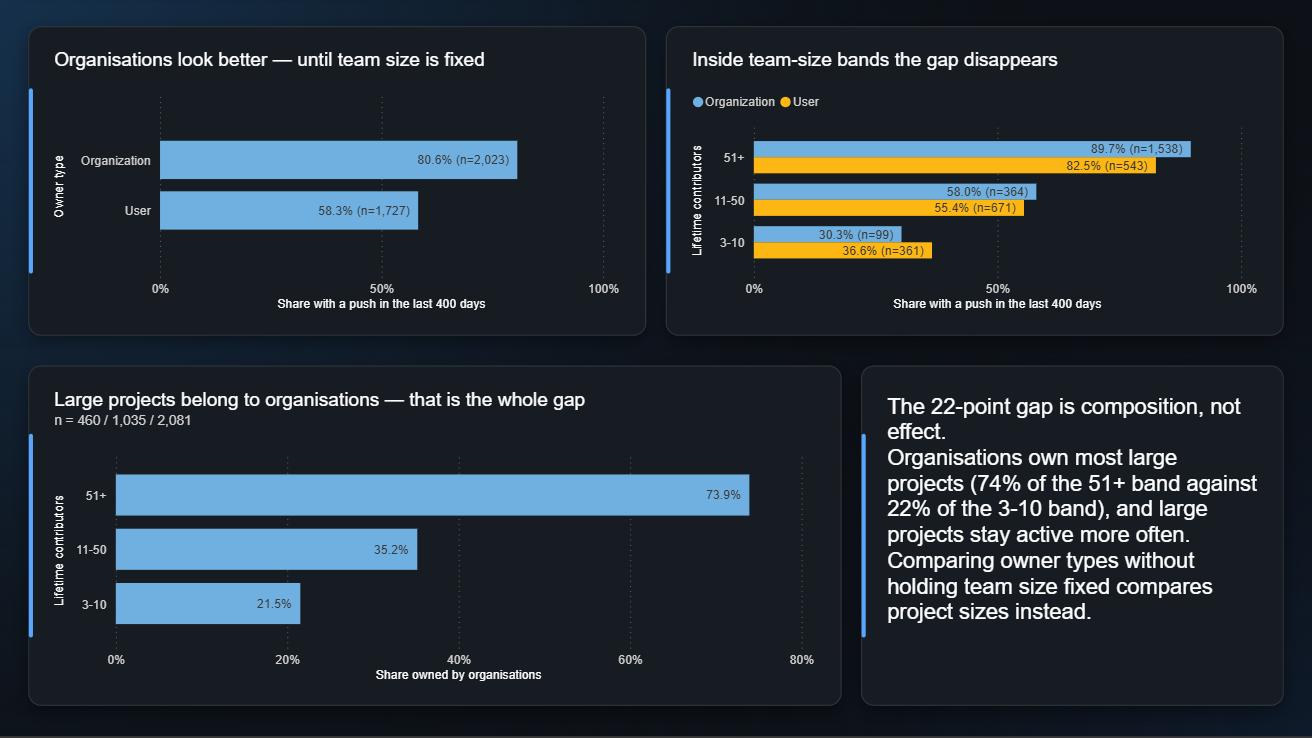

This screenshot's page, from the dashboard's own definition file:
{"tool":"powerbi","page":{"name":"Ownership","canvas":[1280,720],"ordinal":2},"visuals":[{"type":"clusteredBarChart","title":"Organisations look better — until team size is fixed","fields":{"Category":["owners.owner_type"],"Y":["repositories.Active share"]},"box":[50,50,560,260],"z":0},{"type":"clusteredBarChart","title":"Inside team-size bands the gap disappears","fields":{"Category":["repositories.team_band"],"Series":["owners.owner_type"],"Y":["repositories.Active share"]},"box":[670,50,560,260],"z":1000},{"type":"clusteredBarChart","title":"Large projects belong to organisations — that is the whole gap","fields":{"Category":["repositories.team_band"],"Y":["repositories.Org share by band"]},"box":[50,380,750,290],"z":2000},{"type":"textbox","box":[860,380,370,290],"z":3000}]}

Visuals, with their boxes in screenshot pixels (x1, y1, x2, y2), scaled from the page's 1280x720 canvas onto the 1312x738 screenshot:
"Organisations look better — until team size is fixed" clusteredBarChart: bbox=(51, 51, 625, 318)
"Inside team-size bands the gap disappears" clusteredBarChart: bbox=(687, 51, 1261, 318)
"Large projects belong to organisations — that is the whole gap" clusteredBarChart: bbox=(51, 389, 820, 687)
textbox: bbox=(881, 389, 1261, 687)
